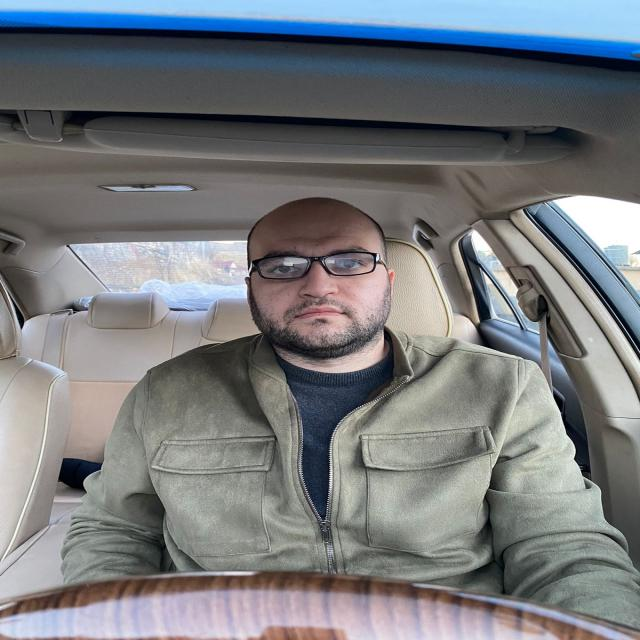person: (240, 195, 400, 361)
